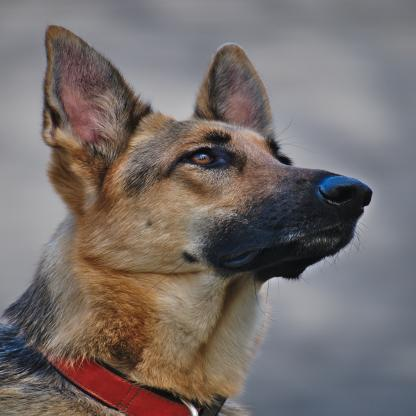dog: (0, 25, 372, 416)
